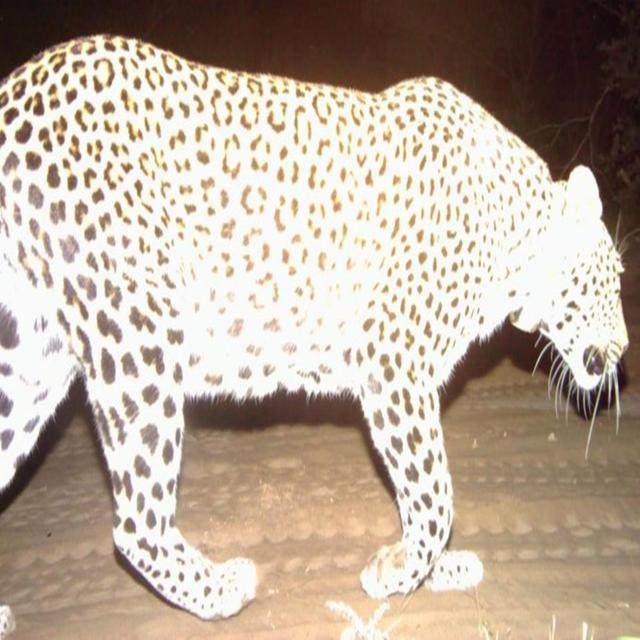Leopard: (0, 38, 640, 640)
